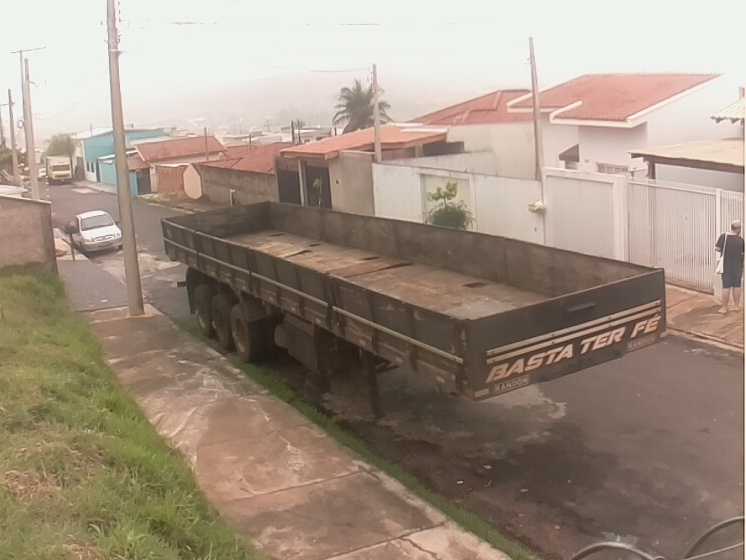person: (712, 218, 746, 317)
